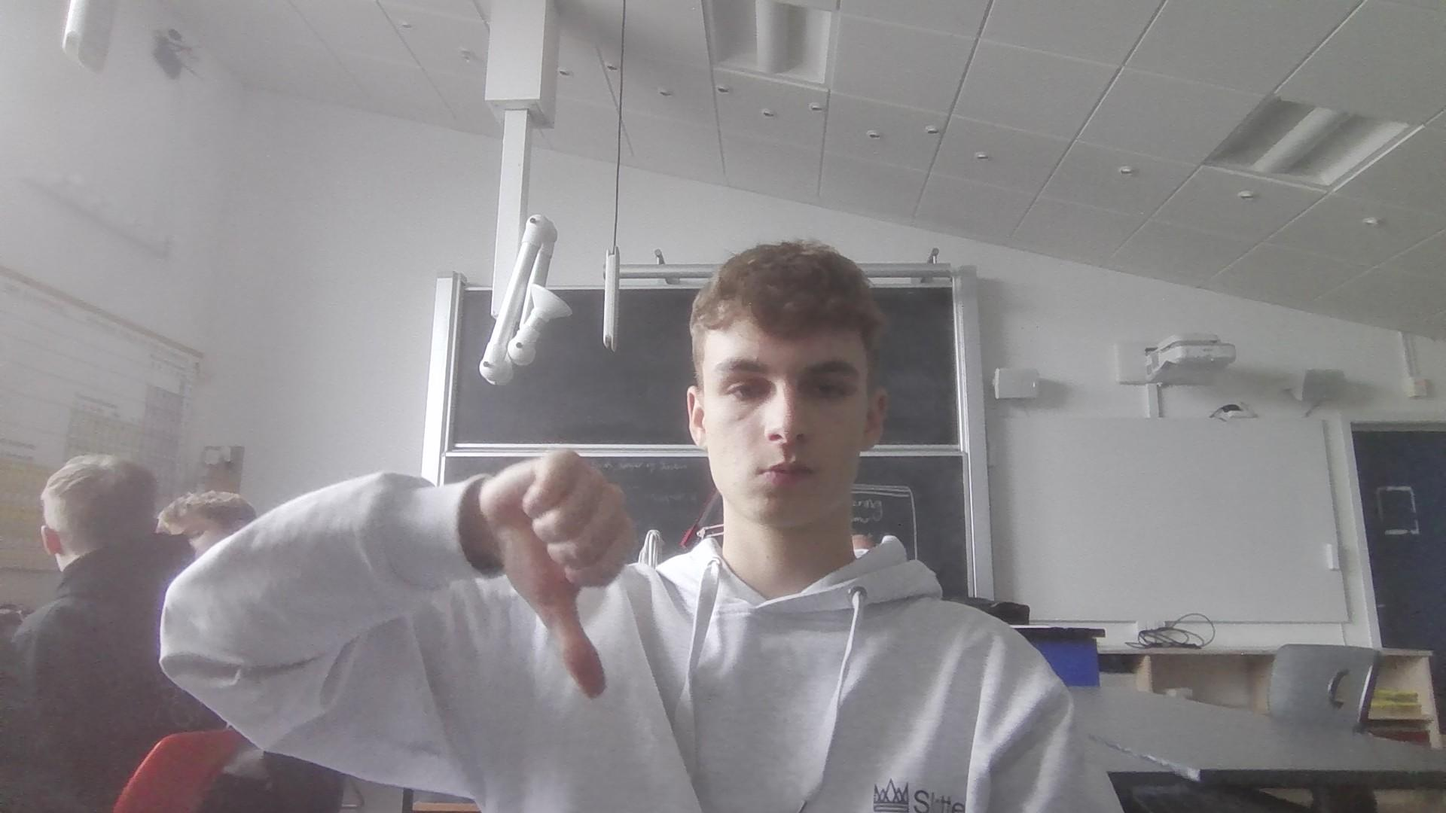thumbs down: (476, 445, 648, 704)
